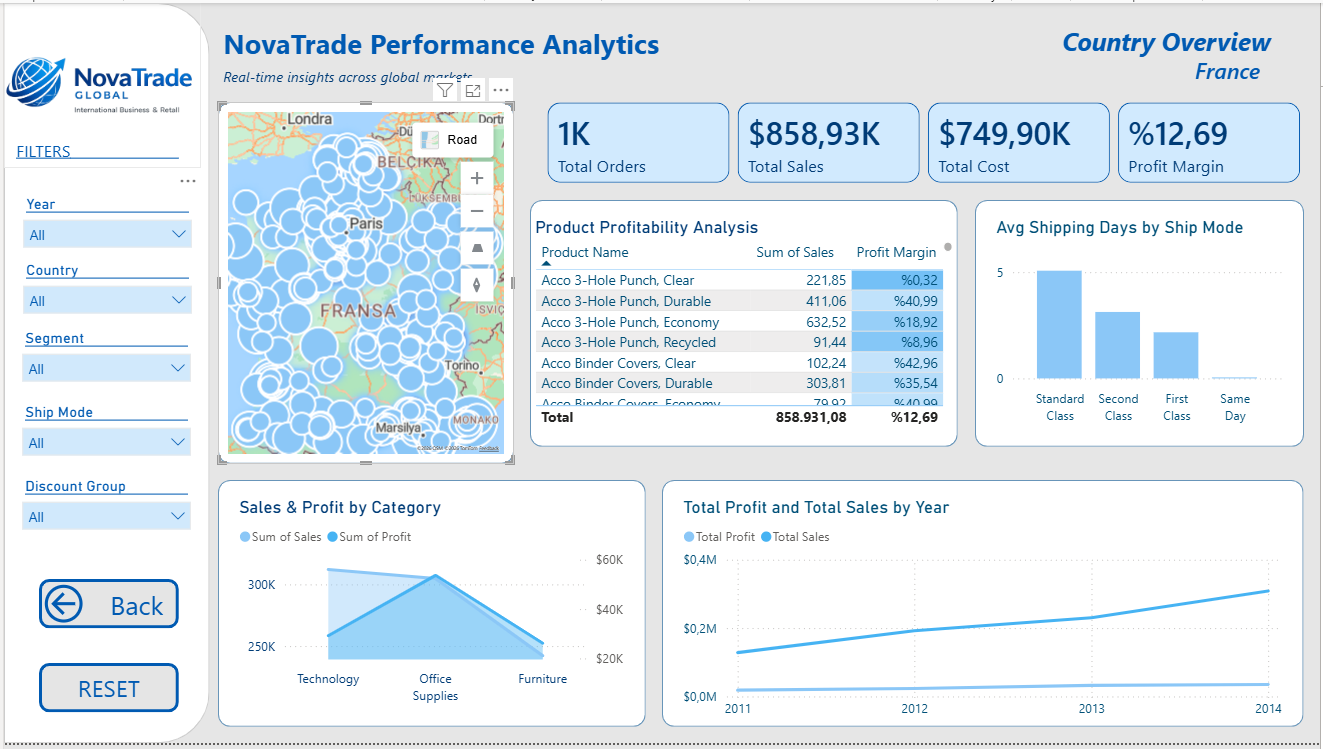

What the dashboard file says about the page in this screenshot:
{"tool":"powerbi","page":{"name":"Country Overview","canvas":[1280,720],"ordinal":1},"visuals":[{"type":"shape","box":[0,0,200,720],"z":0},{"type":"image","box":[0,0,192,160],"z":1000},{"type":"textbox","box":[6.9,127.7,168,56],"z":2000},{"type":"textbox","box":[208,16,456,72],"z":5000},{"type":"textbox","box":[208,56,504,40],"z":6000},{"type":"shape","box":[208,96,288,352],"z":7000},{"type":"shape","box":[208,464,416,240],"z":8000},{"type":"shape","box":[512,192,416,240],"z":9000},{"type":"cardVisual","fields":{"Data":["Sheet1.Total Orders","Sheet1.Total Sales","Sheet1.Total Cost","Sheet1.Profit Margin"]},"box":[512,80,768,112],"z":10000},{"type":"shape","box":[640,464,624,240],"z":11000},{"type":"textbox","box":[1024,16,240,48],"z":12000},{"type":"azureMap","fields":{"Size":["Sum(Sheet1.Sales)"],"Category":["Sheet1.City"]},"box":[208,96,288,352],"z":13000},{"type":"actionButton","box":[34,560,136,48],"z":14000},{"type":"cardVisual","fields":{"Data":["Min(Sheet1.Country)"]},"box":[864,32,384,64],"z":15000},{"type":"shape","box":[944,192,320,240],"z":16000},{"type":"tableEx","title":"Product Profitability Analysis","fields":{"Values":["Sheet1.Product Name","Sum(Sheet1.Sales)","Sheet1.Profit Margin"]},"box":[512,208,416,208],"z":17000},{"type":"lineChart","fields":{"Y":["Sheet1.Total Profit","Sheet1.Total Sales"],"Category":["Dates.Date.Variation.Date Hierarchy.Year","Dates.Date.Variation.Date Hierarchy.Month"]},"box":[656,480,592,224],"z":18000},{"type":"clusteredColumnChart","fields":{"Category":["Sheet1.Ship Mode"],"Y":["Sheet1.Avg Shipping Days"]},"box":[960,208,288,208],"z":19000},{"type":"areaChart","title":"Sales & Profit by Category","fields":{"Category":["Sheet1.Category"],"Y":["Sum(Sheet1.Sales)"],"Y2":["Sum(Sheet1.Profit)"]},"box":[224,480,384,208],"z":20000},{"type":"actionButton","box":[34,642,136,48],"z":22000},{"type":"slicer","fields":{"Values":["Dates.Date.Variation.Date Hierarchy.Year"]},"box":[8.8,182,184,64],"z":23000},{"type":"slicer","fields":{"Values":["Sheet1.Segment"]},"box":[8,312,184,64],"z":24000},{"type":"slicer","fields":{"Values":["Sheet1.Ship Mode"]},"box":[8,384,184,64],"z":25000},{"type":"slicer","fields":{"Values":["Sheet1.Country"]},"box":[8.8,246,184,64],"z":26000},{"type":"slicer","fields":{"Values":["Sheet1.Discount Group"]},"box":[8,456,184,64],"z":27000}]}

Visuals, with their boxes in screenshot pixels (x1, y1, x2, y2), scaled from the page's 1280x720 canvas onto the 1323x749 screenshot:
shape: [0,0,207,748]
image: [0,0,198,166]
textbox: [7,133,181,191]
textbox: [215,17,686,92]
textbox: [215,58,736,100]
shape: [215,100,513,466]
shape: [215,483,645,732]
shape: [529,200,959,449]
cardVisual - Sheet1.Total Orders x Sheet1.Total Sales: [529,83,1322,200]
shape: [662,483,1306,732]
textbox: [1058,17,1306,67]
azureMap - Sum(Sheet1.Sales) x Sheet1.City: [215,100,513,466]
actionButton: [35,583,176,632]
cardVisual - Min(Sheet1.Country): [893,33,1290,100]
shape: [976,200,1306,449]
"Product Profitability Analysis" tableEx: [529,216,959,433]
lineChart - Sheet1.Total Profit x Sheet1.Total Sales: [678,499,1290,732]
clusteredColumnChart - Sheet1.Ship Mode x Sheet1.Avg Shipping Days: [992,216,1290,433]
"Sales & Profit by Category" areaChart: [232,499,628,716]
actionButton: [35,668,176,718]
slicer - Dates.Date.Variation.Date Hierarchy.Year: [9,189,199,256]
slicer - Sheet1.Segment: [8,325,198,391]
slicer - Sheet1.Ship Mode: [8,399,198,466]
slicer - Sheet1.Country: [9,256,199,322]
slicer - Sheet1.Discount Group: [8,474,198,541]
